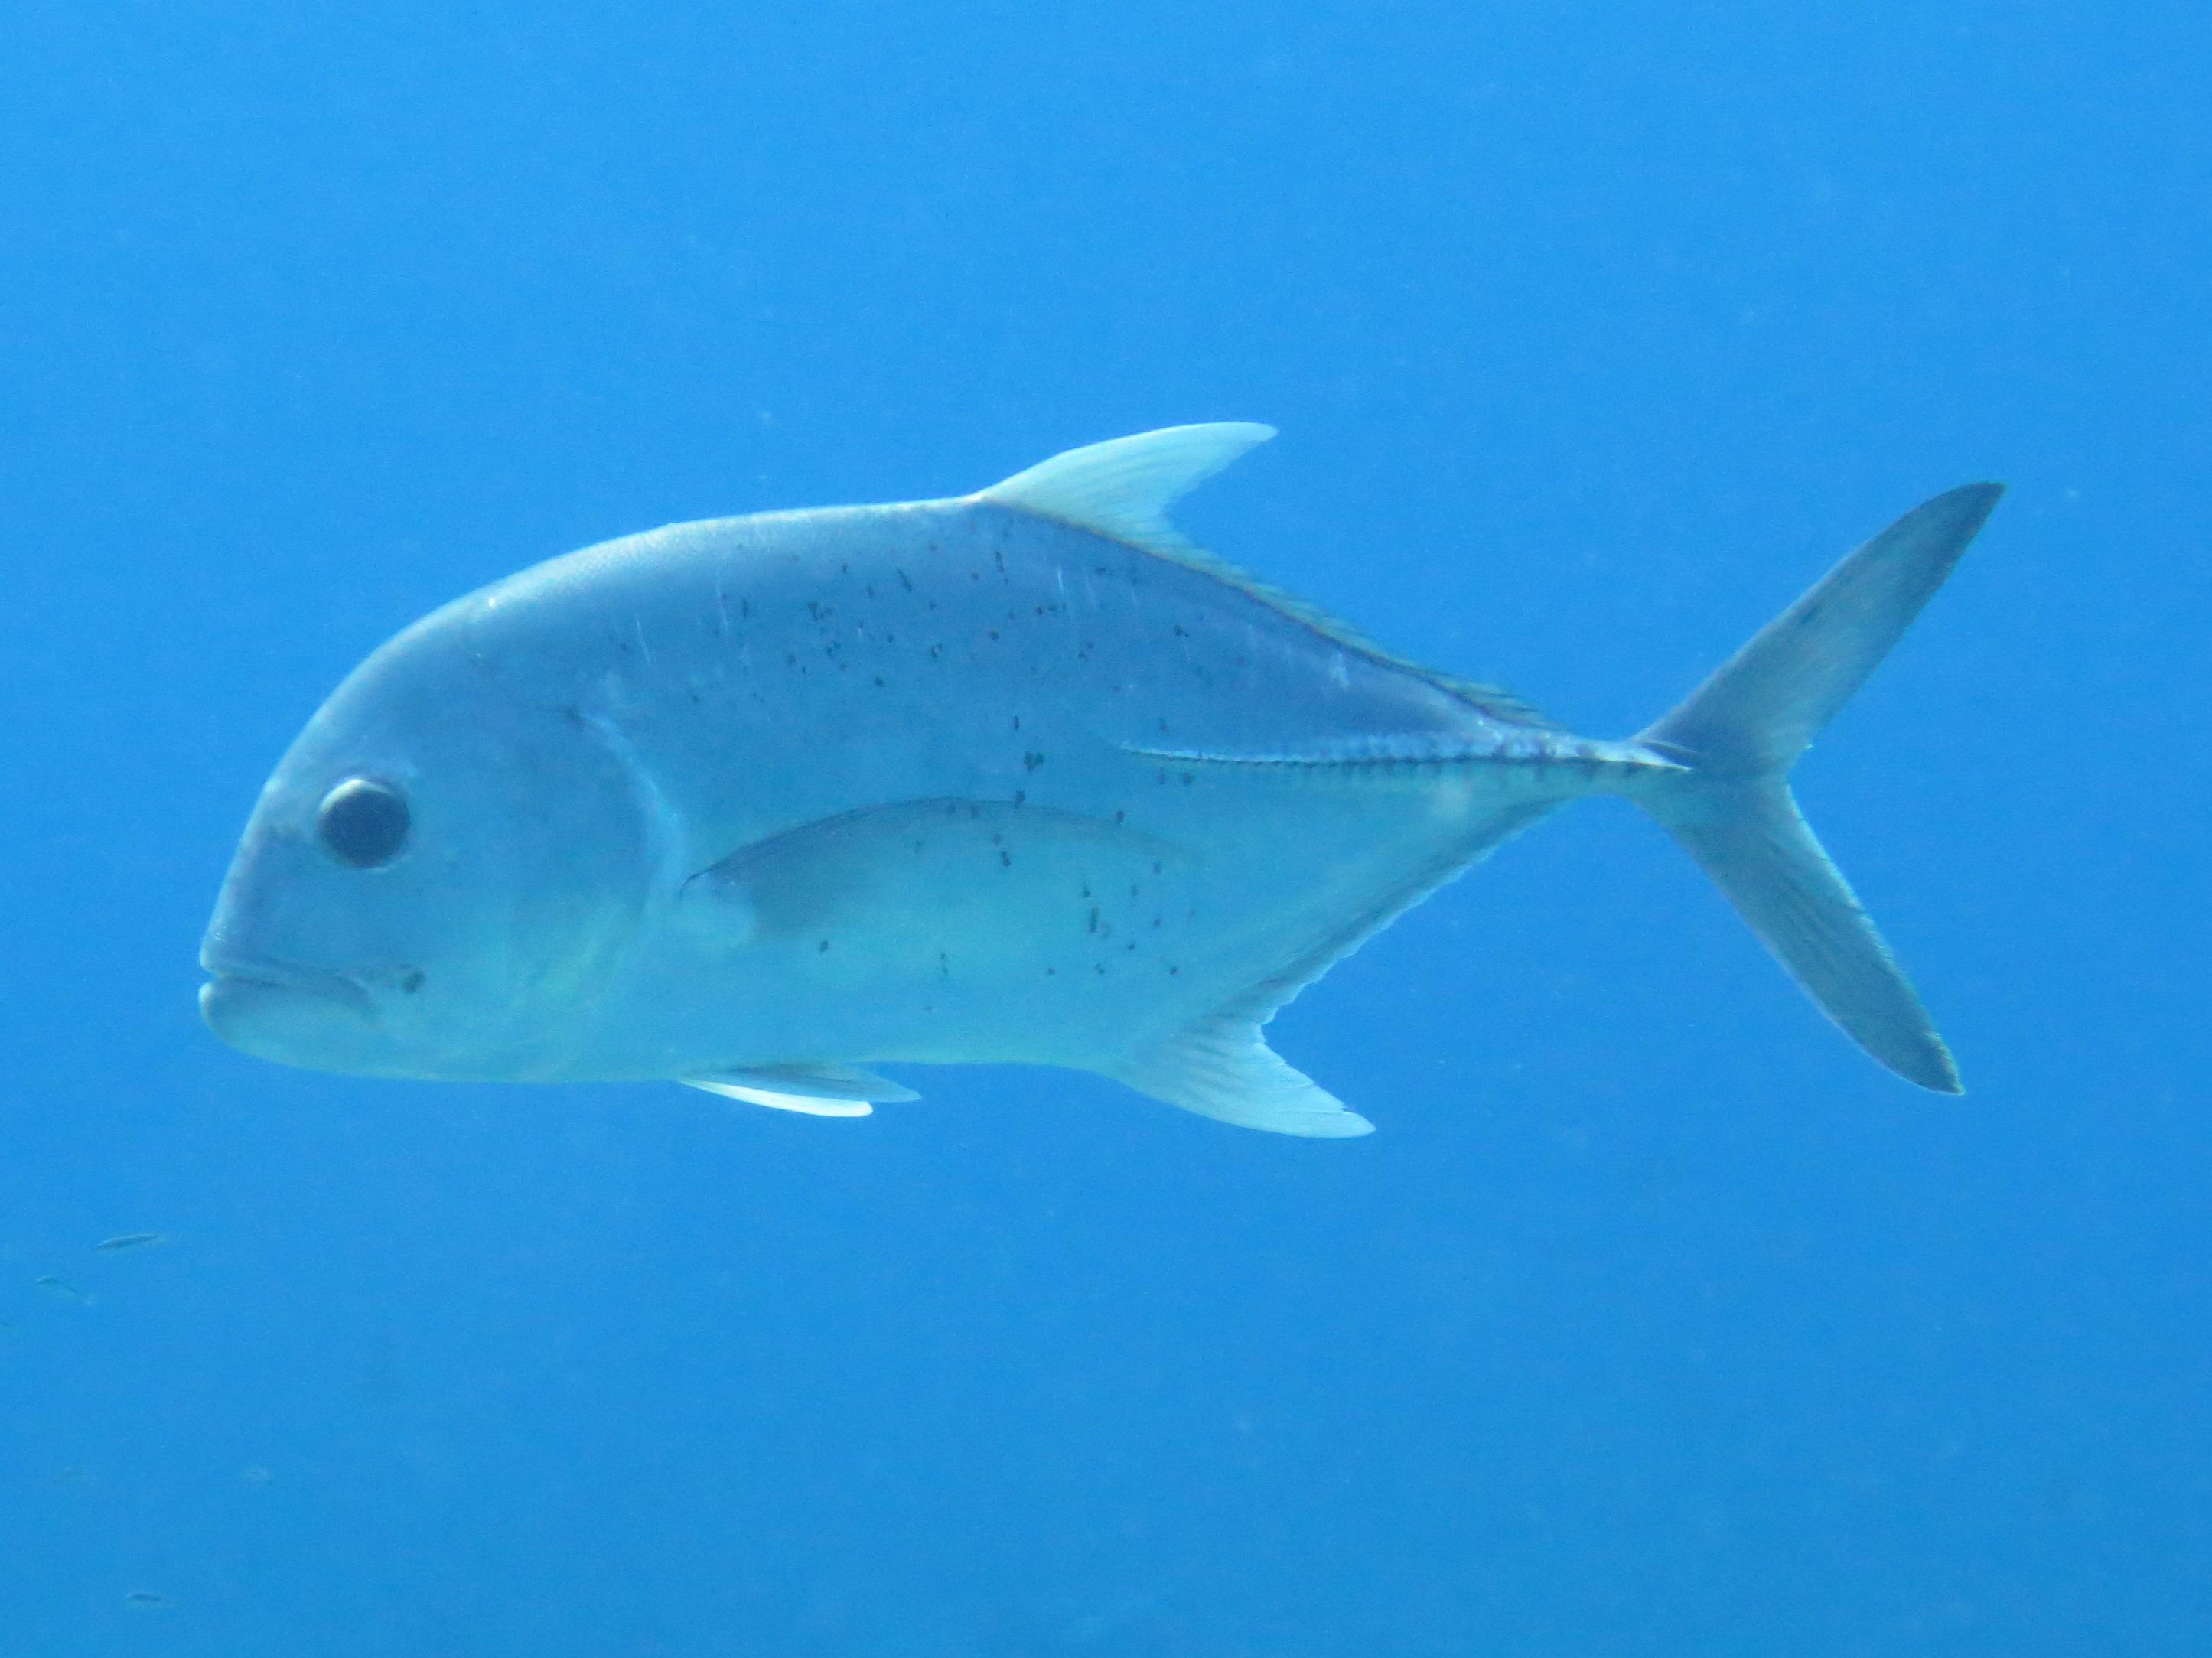Fish: (134, 390, 2008, 1195)
